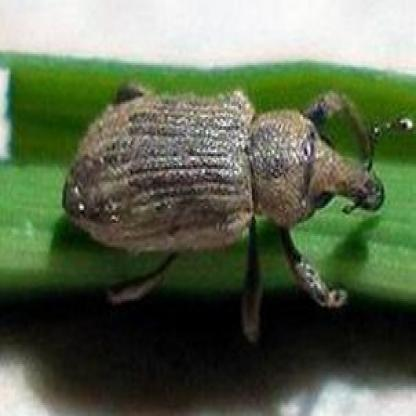rice-bug: (60, 76, 384, 283)
